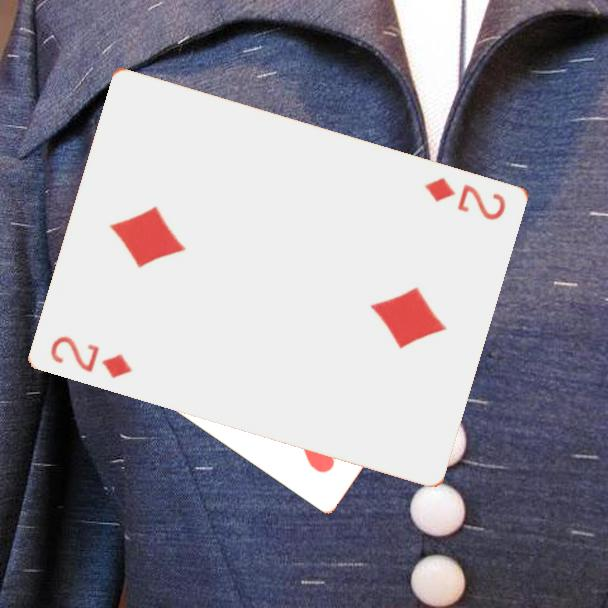d02: (422, 173, 510, 223), (47, 332, 135, 381)
